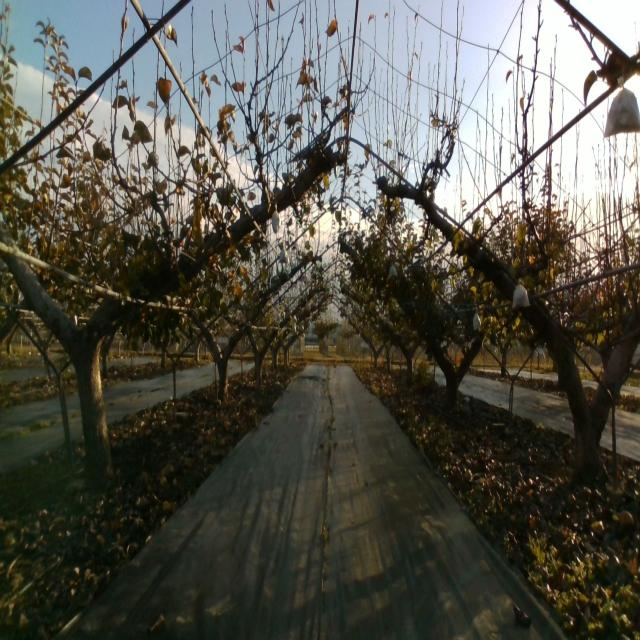pearbags: (603, 75, 640, 139), (511, 278, 530, 310)
